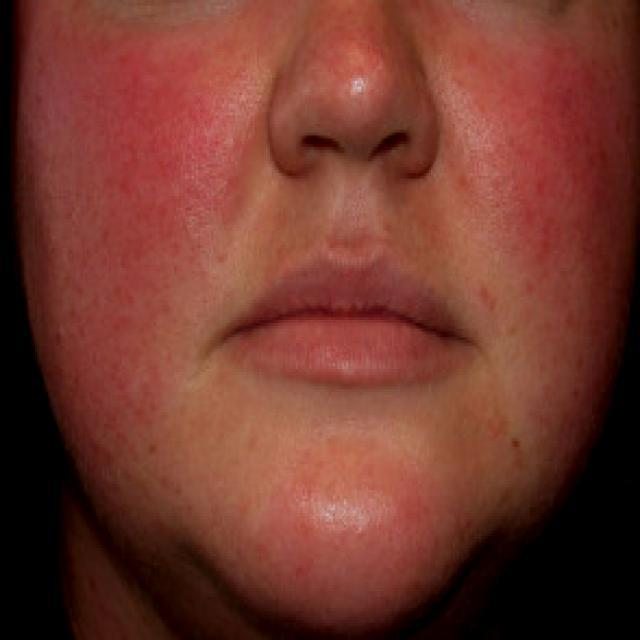Rosacea: (16, 15, 248, 473), (437, 5, 630, 308), (239, 445, 443, 623), (295, 0, 413, 94)
